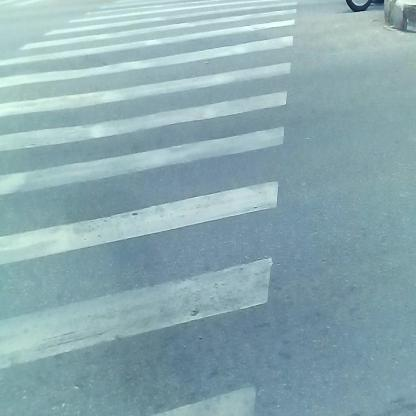crosswalk: (5, 3, 305, 416)
